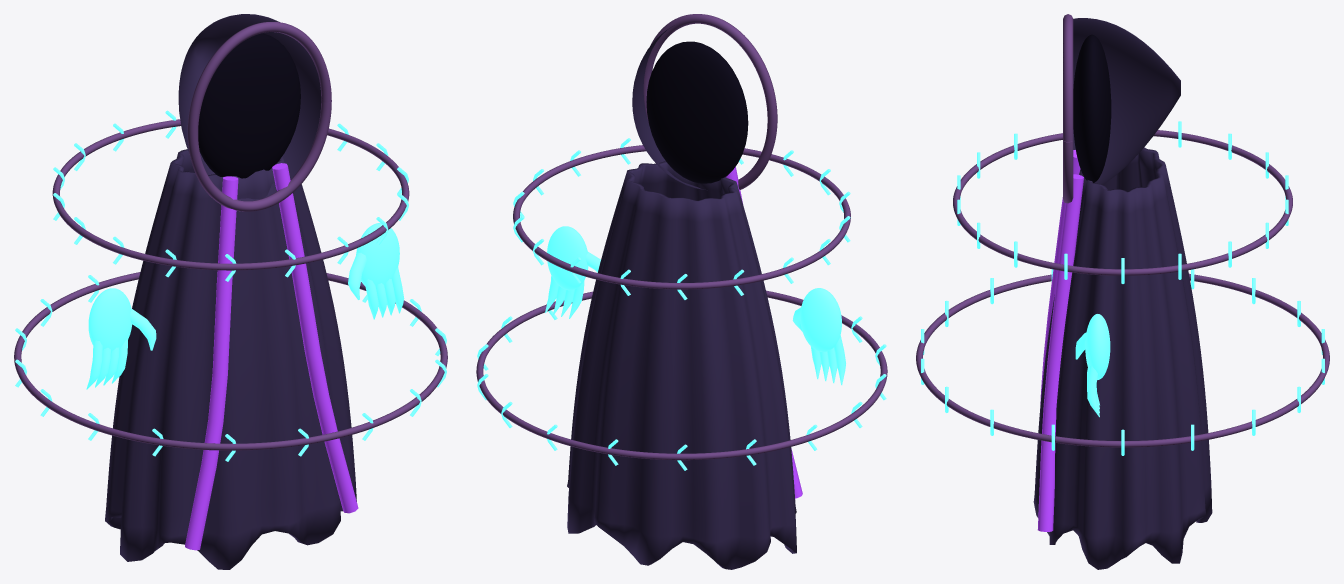
File: m_arauto.glb
The picture shows the model from 3 angles, left to right: view 1: azimuth 30°, elevation 25°; view 2: azimuth 150°, elevation 25°; view 3: azimuth 270°, elevation 25°; orthographic projection. The views are drawn at different scales.
Visible parts, largest first — view 1: Manto drapeado, Escuridao dentro do capuz, Capuz oco, Anel de runas, Estola, Borda do capuz, Estola.001, Anel de runas.001, Palma luminosa, Palma luminosa.001; view 2: Manto drapeado, Escuridao dentro do capuz, Anel de runas, Anel de runas.001, Borda do capuz, Palma luminosa, Palma luminosa.001, Capuz oco; view 3: Manto drapeado, Capuz oco, Anel de runas, Estola.001, Anel de runas.001, Escuridao dentro do capuz, Borda do capuz, Palma luminosa.001, Estola.
Part boxes in pixels (<box>): Manto drapeado: <box>105,149,356,569</box>; Escuridao dentro do capuz: <box>198,33,300,178</box>; Capuz oco: <box>178,14,321,201</box>; Anel de runas: <box>14,272,447,450</box>; Estola: <box>185,176,238,550</box>; Borda do capuz: <box>187,22,331,211</box>; Estola.001: <box>272,163,358,513</box>; Anel de runas.001: <box>52,119,409,270</box>; Palma luminosa: <box>88,288,132,352</box>; Palma luminosa.001: <box>356,223,399,286</box>; Manto drapeado: <box>567,161,796,569</box>; Escuridao dentro do capuz: <box>646,41,748,183</box>; Anel de runas: <box>476,290,887,460</box>; Anel de runas.001: <box>513,145,850,289</box>; Borda do capuz: <box>643,14,777,189</box>; Palma luminosa: <box>800,288,841,351</box>; Palma luminosa.001: <box>547,226,588,290</box>; Capuz oco: <box>632,25,707,190</box>; Manto drapeado: <box>1033,147,1212,569</box>; Capuz oco: <box>1073,18,1180,194</box>; Anel de runas: <box>916,273,1329,447</box>; Estola.001: <box>1037,174,1083,531</box>; Anel de runas.001: <box>953,130,1292,275</box>; Escuridao dentro do capuz: <box>1073,34,1111,182</box>; Borda do capuz: <box>1063,14,1073,203</box>; Palma luminosa.001: <box>1085,314,1110,379</box>; Estola: <box>1040,150,1080,408</box>.
Bounding box in the file's own units: 2.17 × 2.86 × 2.14.
